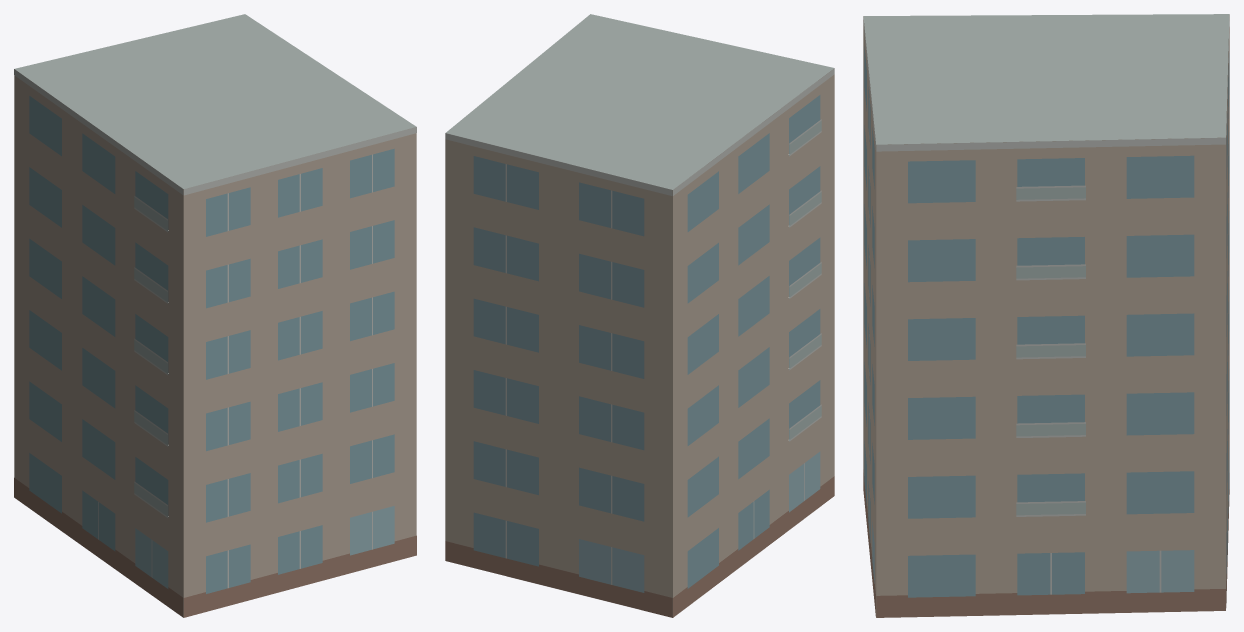
Rendered from survey-upis-32749143.glb.
The picture shows the model from 3 angles, left to right: view 1: azimuth 30°, elevation 25°; view 2: azimuth 150°, elevation 25°; view 3: azimuth 270°, elevation 25°; orthographic projection. The views are drawn at different scales.
Visible parts, largest first — view 1: survey-upis-32749143.tmp; view 2: survey-upis-32749143.tmp; view 3: survey-upis-32749143.tmp.
Boxes of the visible parts, x1,y1,x2,y2 form: survey-upis-32749143.tmp: (14,14,416,617); survey-upis-32749143.tmp: (445,14,834,617); survey-upis-32749143.tmp: (863,14,1229,617).
Size of the model in its own units: 9.9 by 16.7 by 11.72.
